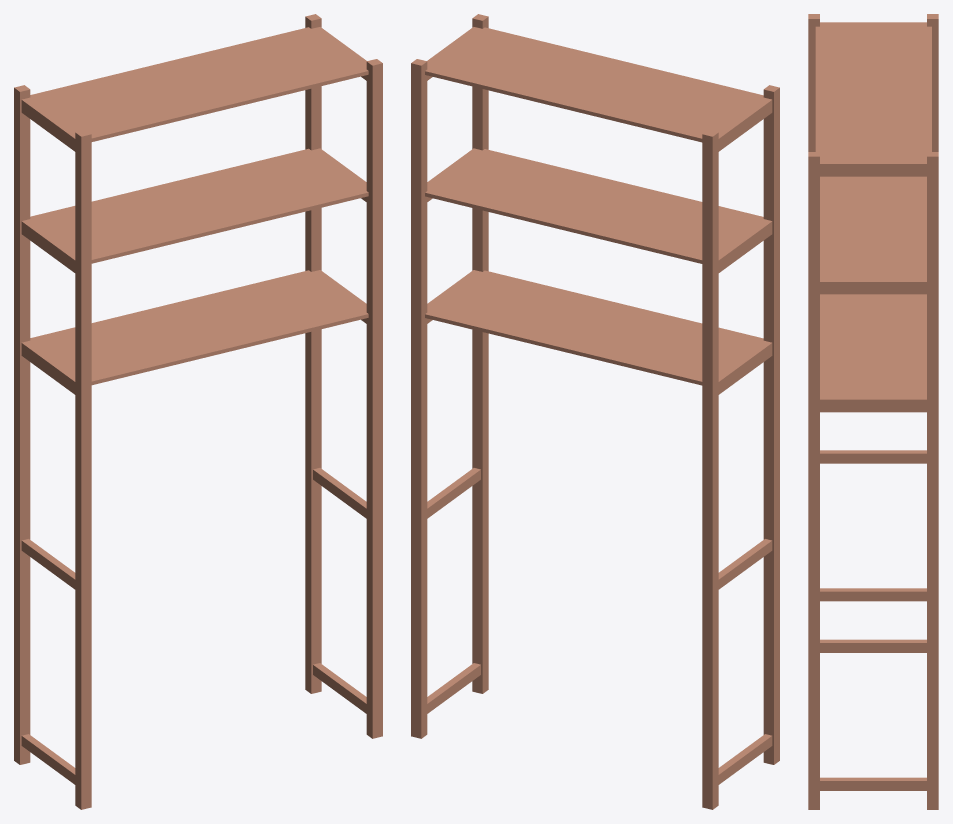
3 views of the same model, side by side, from view 1: azimuth 30°, elevation 25°; view 2: azimuth 150°, elevation 25°; view 3: azimuth 270°, elevation 25° (orthographic). The views are drawn at different scales.
Visible parts, largest first — view 1: shelving; view 2: shelving; view 3: shelving.
Boxes of the visible parts, box(x1,y1,x2,y2) form: shelving: box(14, 14, 382, 809); shelving: box(411, 14, 779, 809); shelving: box(808, 14, 938, 809).
Size of the model in its own units: 0.8441 by 1.8 by 0.3259.
